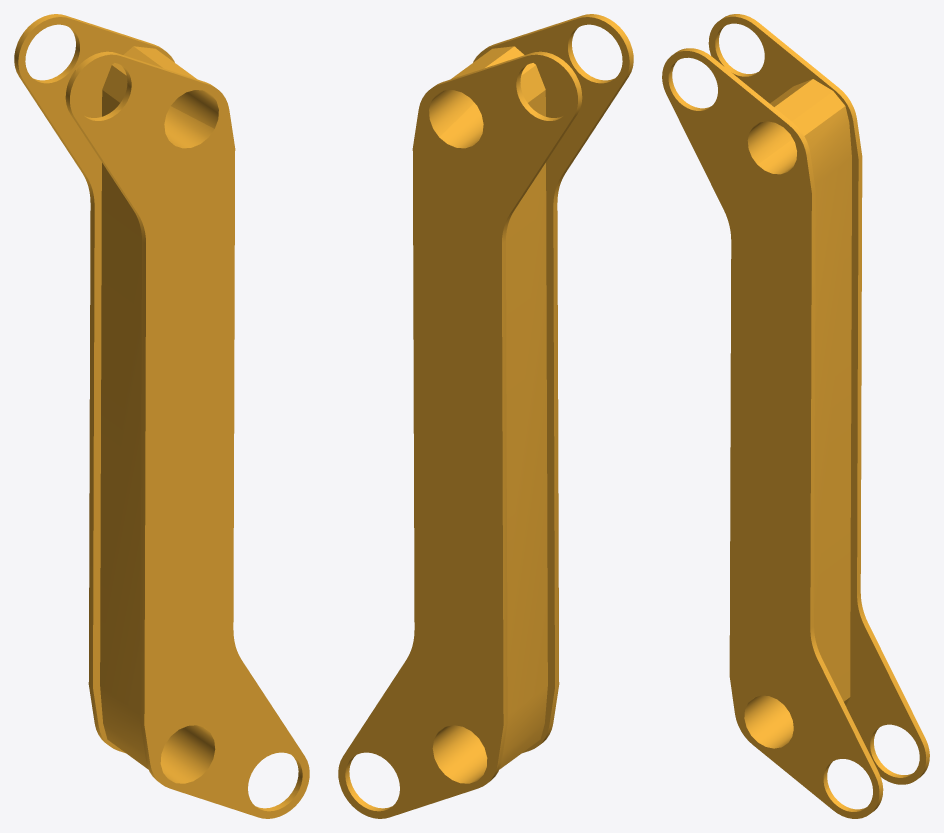
The model's file is body1.dae.
The picture shows the model from 3 angles, left to right: view 1: azimuth 30°, elevation 25°; view 2: azimuth 150°, elevation 25°; view 3: azimuth 330°, elevation 25°; orthographic projection. The views are drawn at different scales.
Parts seen in each view (by area): view 1: Rhinoceros_Binary_STL___Jul__9_2019__; view 2: Rhinoceros_Binary_STL___Jul__9_2019__; view 3: Rhinoceros_Binary_STL___Jul__9_2019__.
Boxes of the visible parts, x1,y1,x2,y2 form: Rhinoceros_Binary_STL___Jul__9_2019__: [14, 14, 309, 818]; Rhinoceros_Binary_STL___Jul__9_2019__: [338, 14, 633, 818]; Rhinoceros_Binary_STL___Jul__9_2019__: [662, 14, 929, 818].
Size of the model in its own units: 33.62 by 13.5 by 108.
